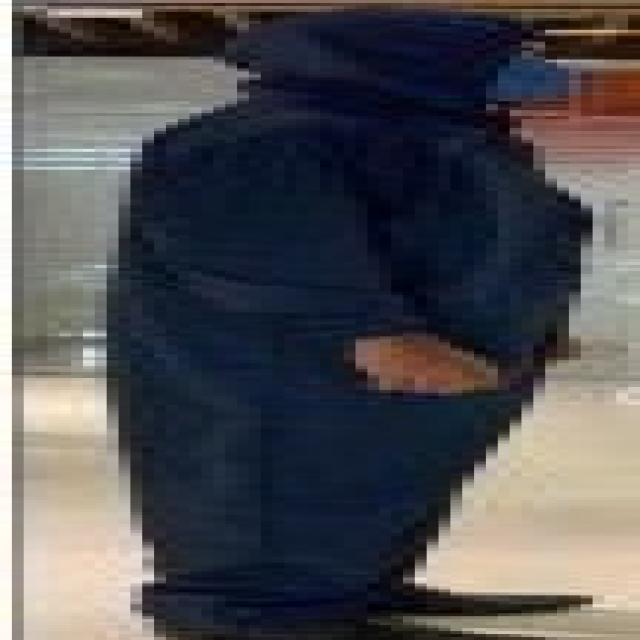Coverall: (59, 3, 616, 637)
Mask: (474, 54, 605, 107)
